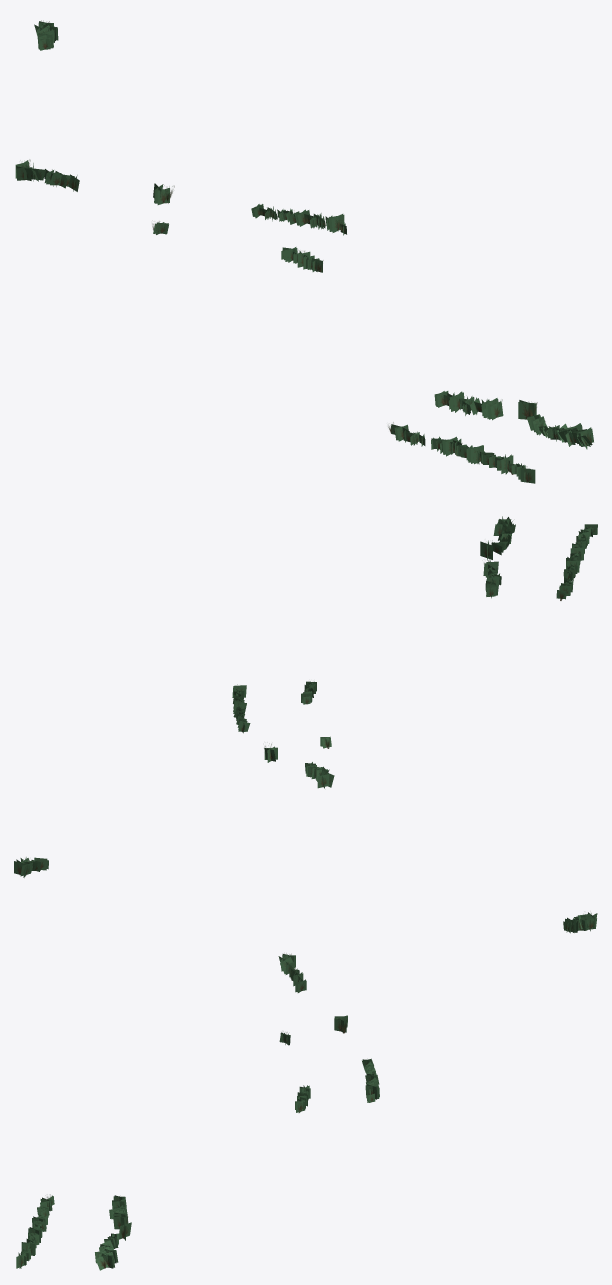
The model's file is Grass-transformed.glb.
3 views of the same model, one above another, from view 1: azimuth 30°, elevation 25°; view 2: azimuth 150°, elevation 25°; view 3: azimuth 330°, elevation 25° (orthographic). The views are drawn at different scales.
Parts seen in each view (by area): view 1: Grass; view 2: Grass; view 3: Grass.
Boxes of the visible parts, box(x1,y1,x2,y2) form: Grass: box(15, 20, 593, 483); Grass: box(14, 516, 597, 877); Grass: box(16, 912, 597, 1270).
Size of the model in its own units: 10.4 by 2.37 by 46.63.
2 materials, 2 textured.
